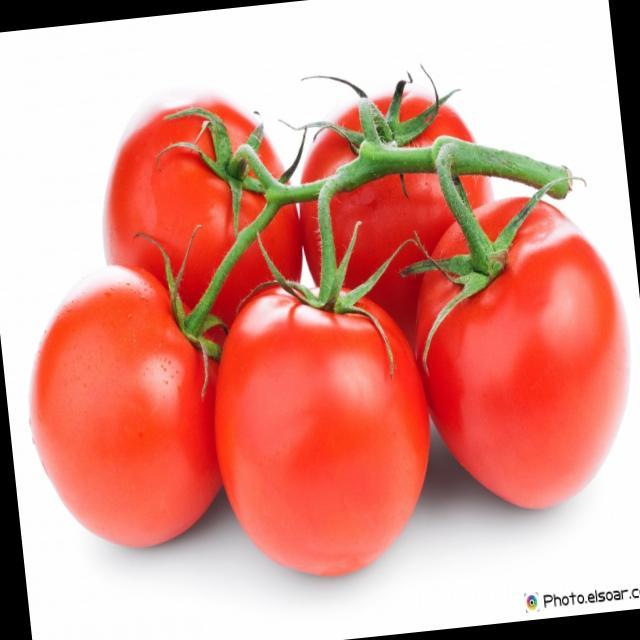TOMATO: (410, 187, 640, 517), (204, 268, 444, 582), (16, 256, 222, 560), (93, 89, 305, 301), (290, 57, 488, 268)
